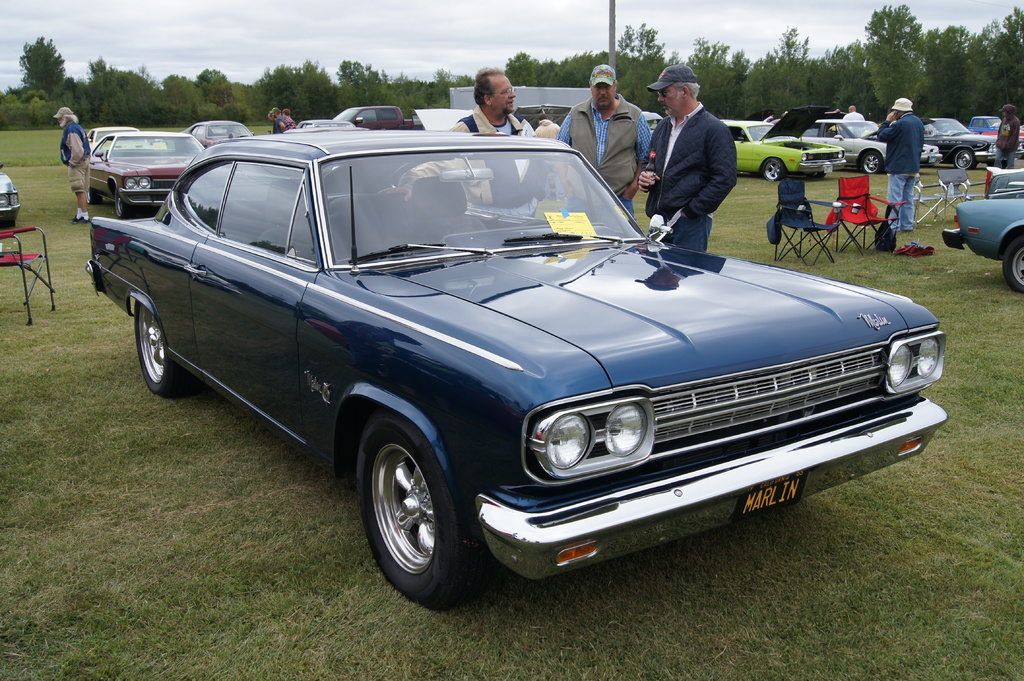mobil: (92, 131, 991, 598)
